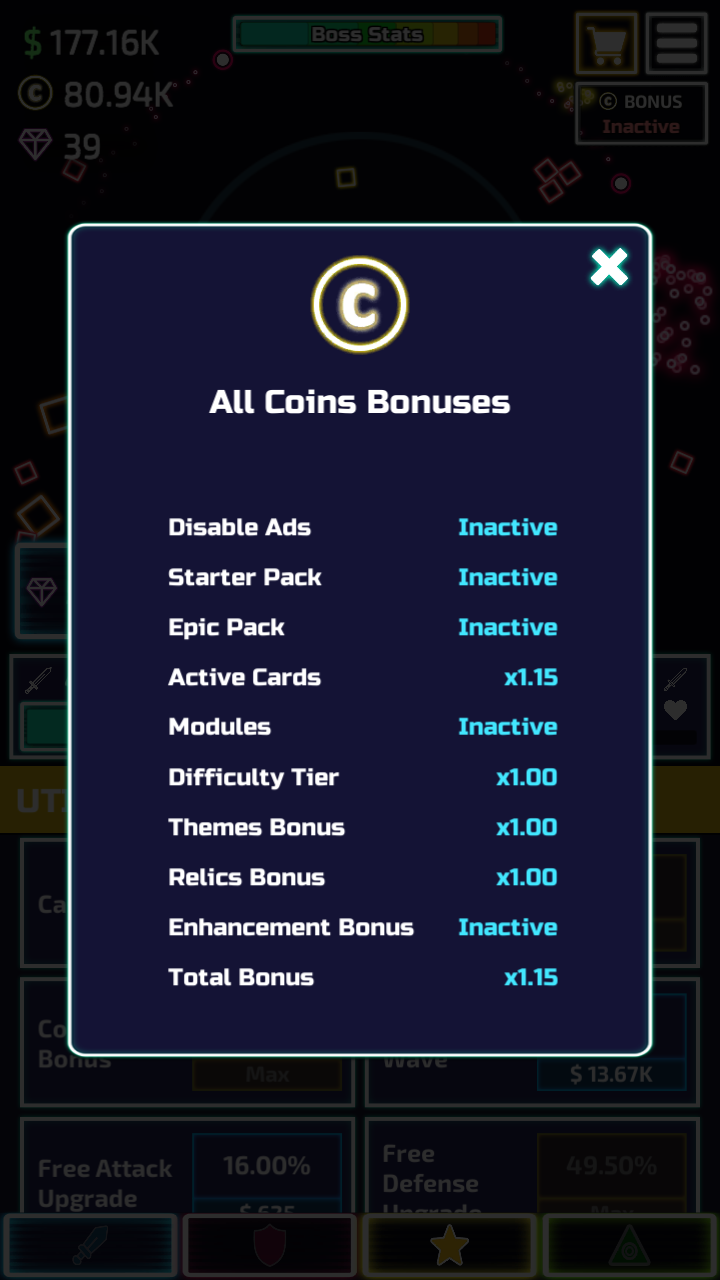B_All_Coin_Bonuses: (69, 217, 655, 1061)
B_Gem_Ad: (12, 546, 65, 641)
B_Menu_Closed: (577, 13, 709, 75)
B_Slot: (20, 1116, 354, 1214), (367, 1120, 702, 1212)
B_Slot_Button: (535, 1138, 687, 1209), (193, 1139, 339, 1211)
B_Slot_Label: (27, 1153, 178, 1215), (371, 1138, 493, 1209)
B_Slot_Maxed: (534, 1139, 687, 1208)
B_Slot_Value: (563, 1152, 658, 1186), (225, 1148, 307, 1186)
